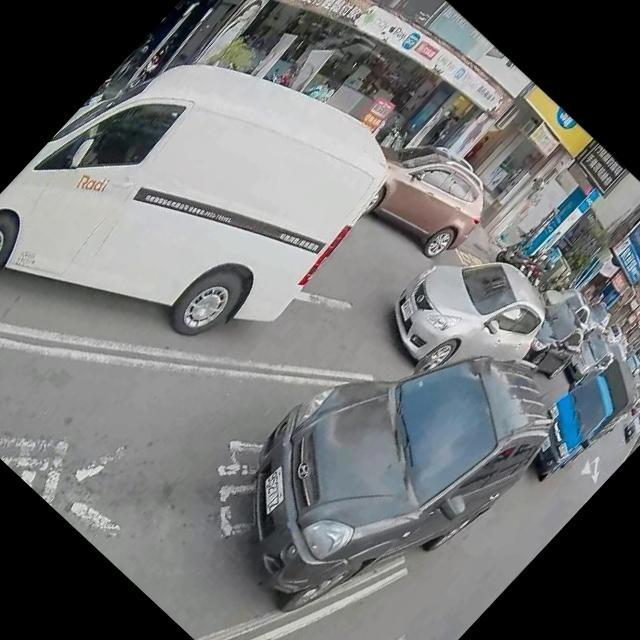person: (300, 73, 330, 104), (314, 82, 338, 106)
